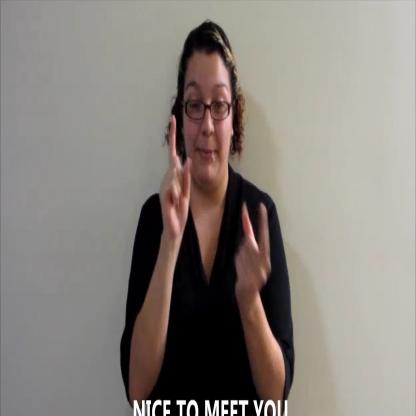NiceToMeetYou: (152, 84, 274, 327)
